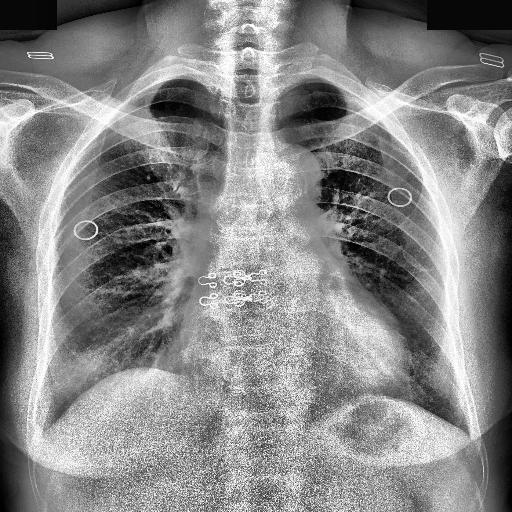0- Aortic enlargement: (247, 145, 320, 216), (254, 144, 322, 208), (252, 142, 324, 202)
3- Cardiomegaly: (178, 313, 408, 409), (176, 301, 404, 390), (174, 327, 418, 406)
